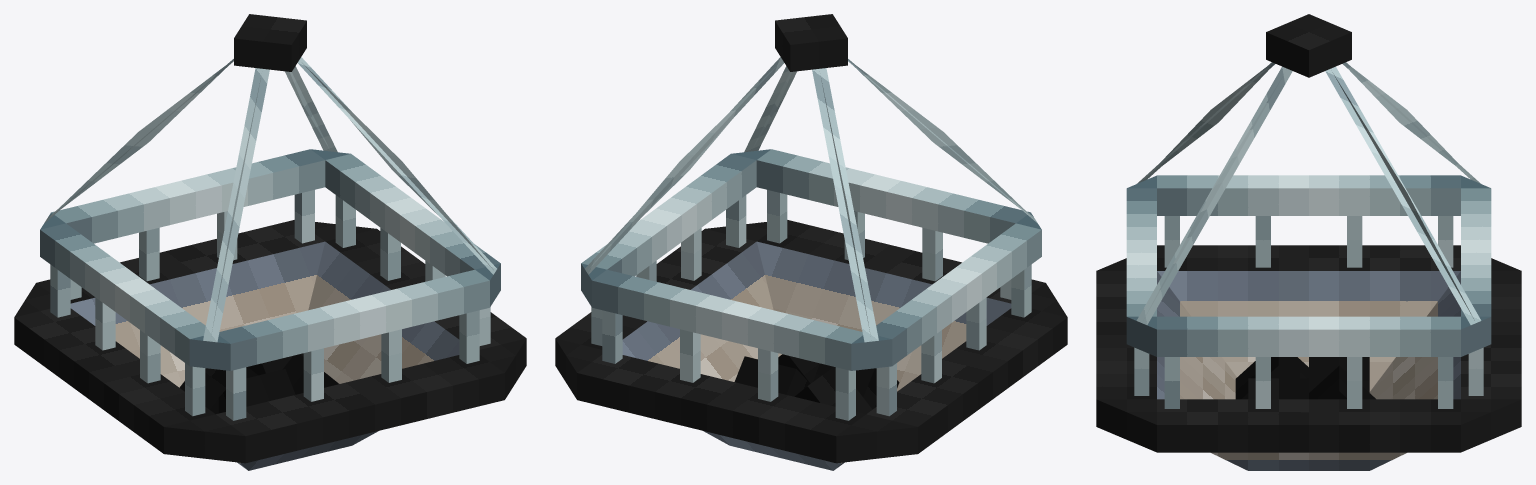
The model's file is brazier_ceiling.obj.
3 views of the same model, side by side, from view 1: azimuth 30°, elevation 25°; view 2: azimuth 150°, elevation 25°; view 3: azimuth 270°, elevation 25° (orthographic).
Visible parts, largest first — view 1: BOWL_Cube.001, GRATING_Cube.006, CHAINS_Cube.003, COAL_Cube; view 2: BOWL_Cube.001, GRATING_Cube.006, CHAINS_Cube.003, COAL_Cube; view 3: BOWL_Cube.001, GRATING_Cube.006, CHAINS_Cube.003, COAL_Cube.
Boxes of the visible parts, x1,y1,x2,y2 form: BOWL_Cube.001: (14, 220, 526, 470); GRATING_Cube.006: (40, 149, 500, 420); CHAINS_Cube.003: (44, 14, 496, 342); COAL_Cube: (179, 353, 338, 414); BOWL_Cube.001: (555, 220, 1067, 470); GRATING_Cube.006: (581, 149, 1041, 420); CHAINS_Cube.003: (585, 14, 1037, 342); COAL_Cube: (734, 354, 899, 414); BOWL_Cube.001: (1096, 245, 1521, 470); GRATING_Cube.006: (1126, 175, 1491, 408); CHAINS_Cube.003: (1136, 14, 1481, 324); COAL_Cube: (1235, 357, 1375, 399).
Size of the model in its own units: 0.875 by 0.9375 by 0.875.
